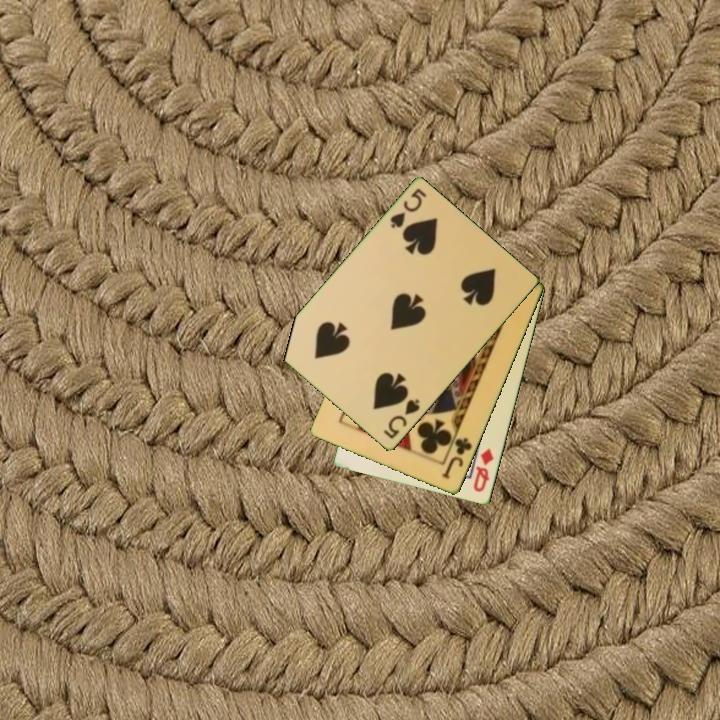5s: (387, 185, 430, 232), (380, 396, 423, 442)
Jc: (438, 434, 475, 482)
Qd: (470, 445, 497, 496)
